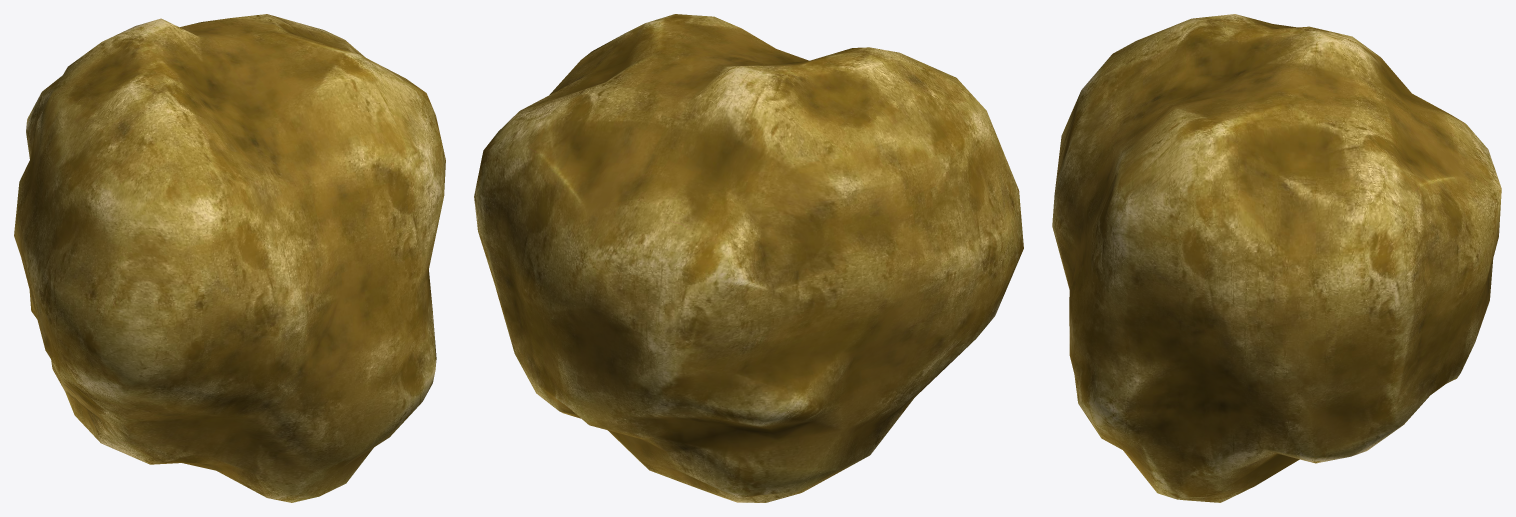
File: goldnugget.fbx
3 views of the same model, side by side, from view 1: azimuth 30°, elevation 25°; view 2: azimuth 150°, elevation 25°; view 3: azimuth 270°, elevation 25° (orthographic). The views are drawn at different scales.
Parts seen in each view (by area): view 1: Sphere; view 2: Sphere; view 3: Sphere.
Part boxes in pixels (x1,y1,x2,y2): Sphere: [14, 14, 445, 502]; Sphere: [474, 14, 1023, 502]; Sphere: [1052, 14, 1501, 502].
Size of the model in its own units: 287 by 286 by 274.
